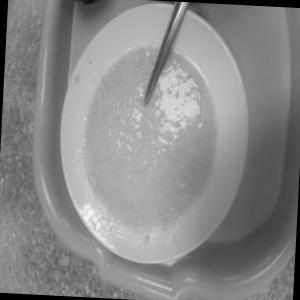porridge: (69, 41, 238, 241)
